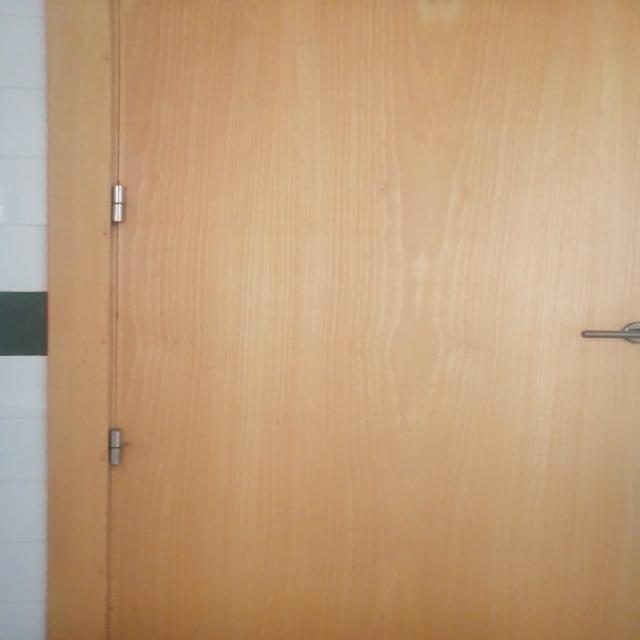door_handle: (572, 326, 640, 341)
